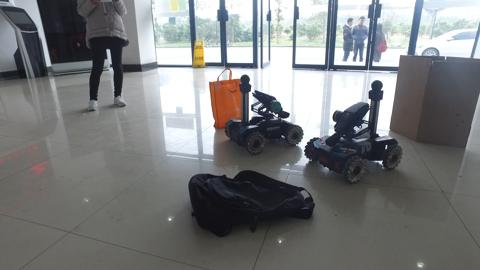bag: (190, 174, 314, 229)
box: (395, 53, 479, 152)
chariot: (306, 79, 403, 183), (226, 73, 303, 154)
